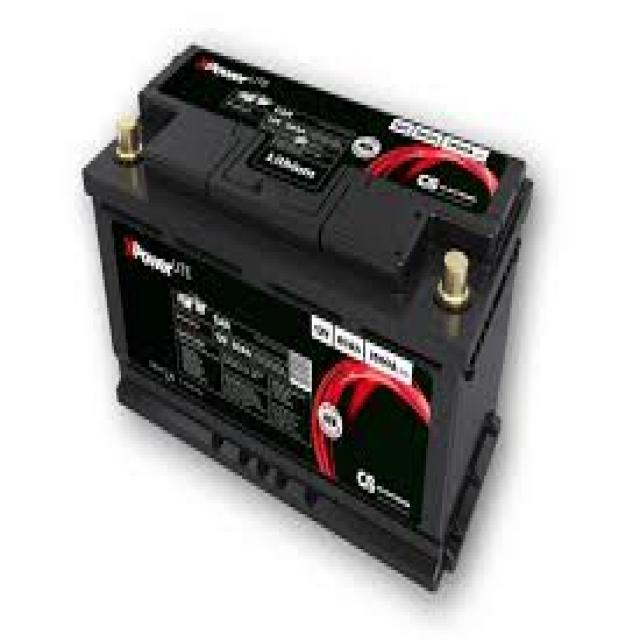battery: (78, 39, 534, 592)
